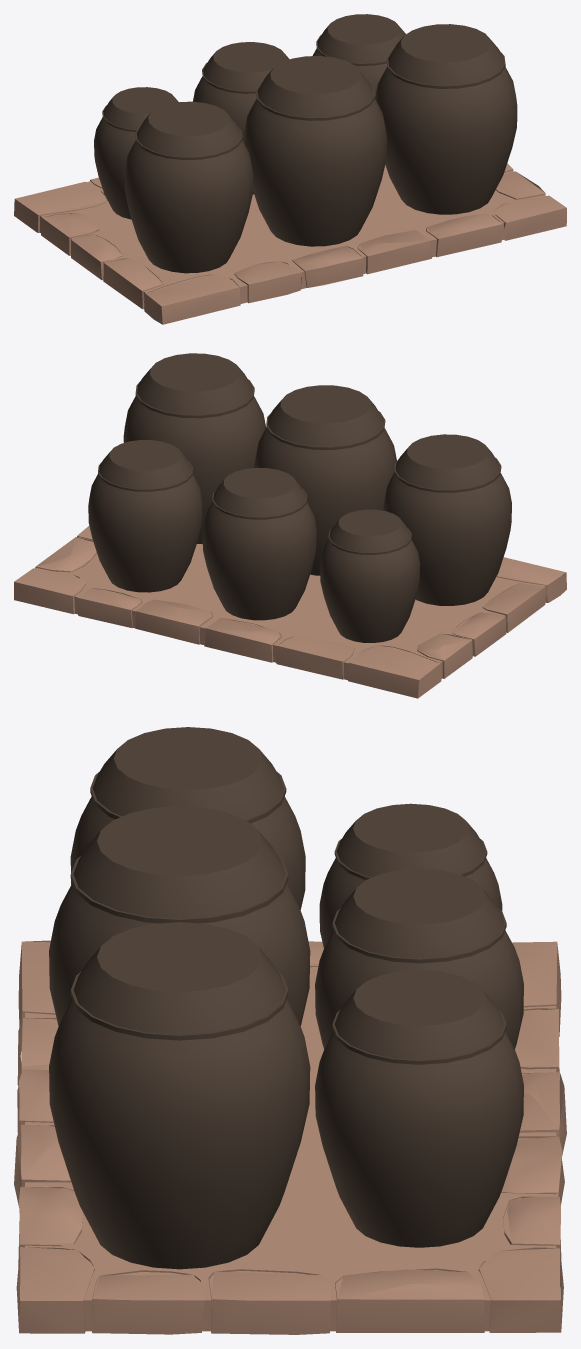
File: jars.fbx
The picture shows the model from 3 angles, top to bottom: view 1: azimuth 30°, elevation 25°; view 2: azimuth 150°, elevation 25°; view 3: azimuth 270°, elevation 25°; orthographic projection. The views are drawn at different scales.
Parts seen in each view (by area): view 1: Mesh2323; view 2: Mesh2323; view 3: Mesh2323.
Part boxes in pixels (x1,y1,x2,y2): Mesh2323: (14,14,566,324); Mesh2323: (14,353,566,698); Mesh2323: (14,727,566,1334).
Size of the model in its own units: 24.69 by 9.81 by 15.94.
